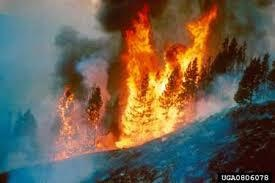fire: (113, 5, 210, 148)
